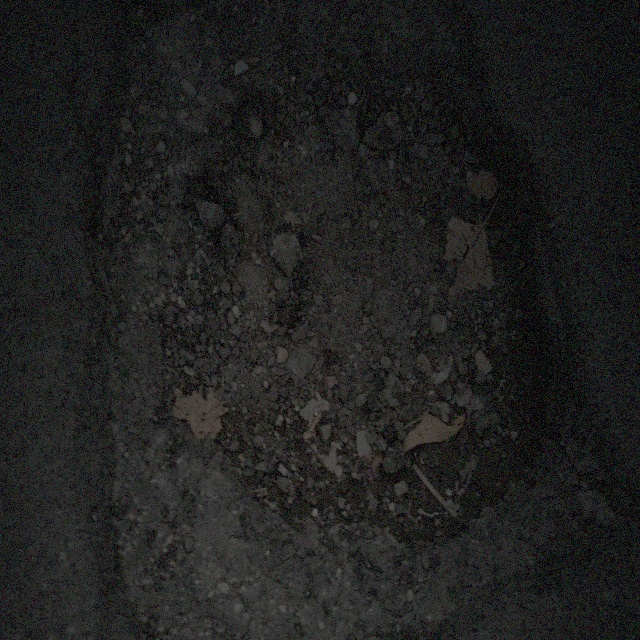pothole: (85, 64, 574, 560)
